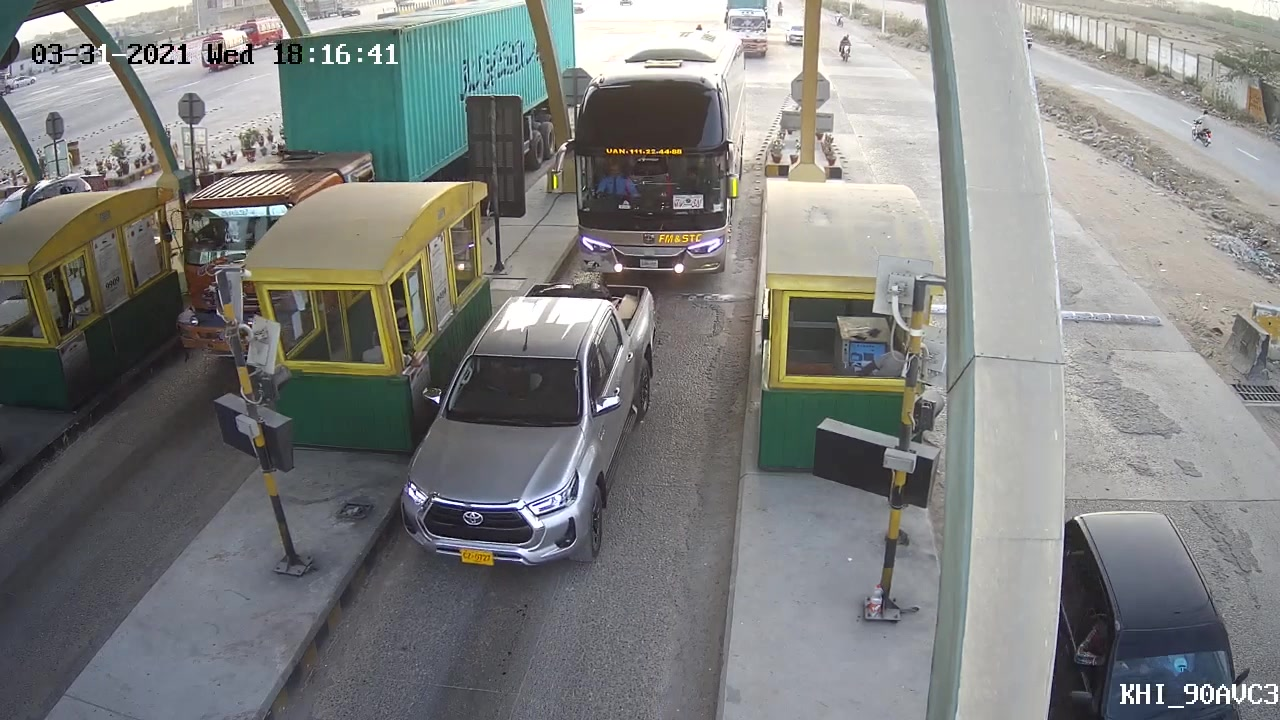F1: (395, 273, 662, 573)
F4: (569, 18, 764, 286)
